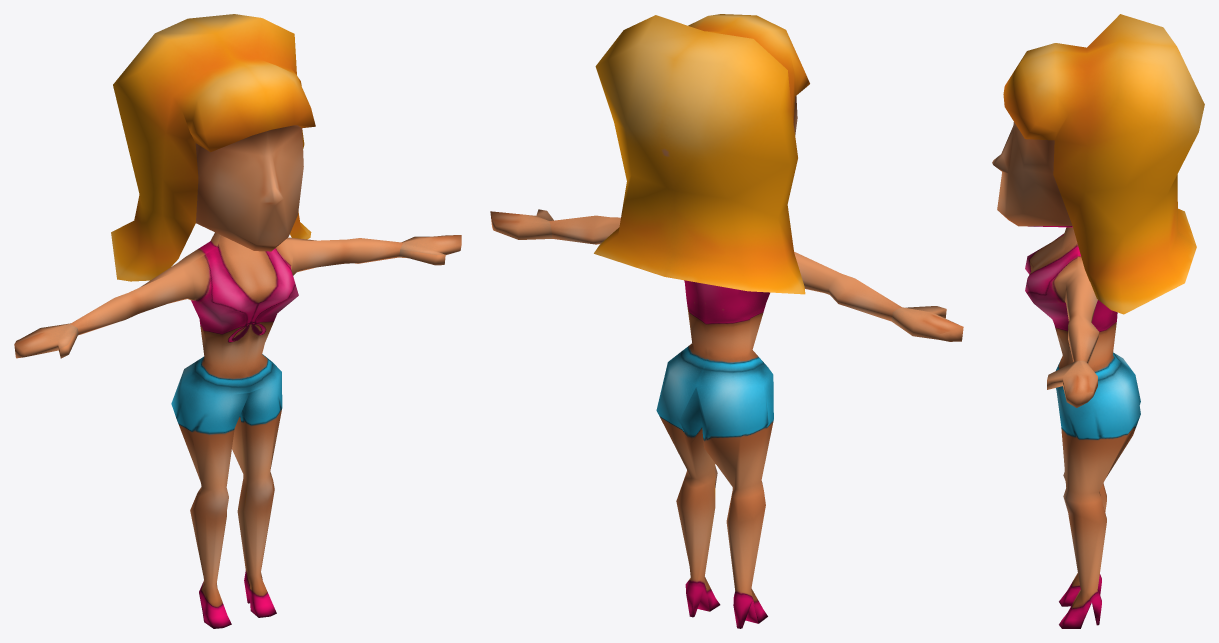
Rendered from HD_Family_Mommy_1x1_Mesh_Tekstur_001.FBX.
3 views of the same model, side by side, from view 1: azimuth 30°, elevation 25°; view 2: azimuth 150°, elevation 25°; view 3: azimuth 270°, elevation 25° (orthographic). The views are drawn at different scales.
Parts seen in each view (by area): view 1: RoadKillOut009; view 2: RoadKillOut009; view 3: RoadKillOut009.
Part boxes in pixels (x1=…): RoadKillOut009: x1=14, y1=14, x2=461, y2=628; RoadKillOut009: x1=490, y1=14, x2=963, y2=628; RoadKillOut009: x1=992, y1=14, x2=1204, y2=628.
Bounding box in the file's own units: 329 × 401 × 134.
1 material, 1 textured.
